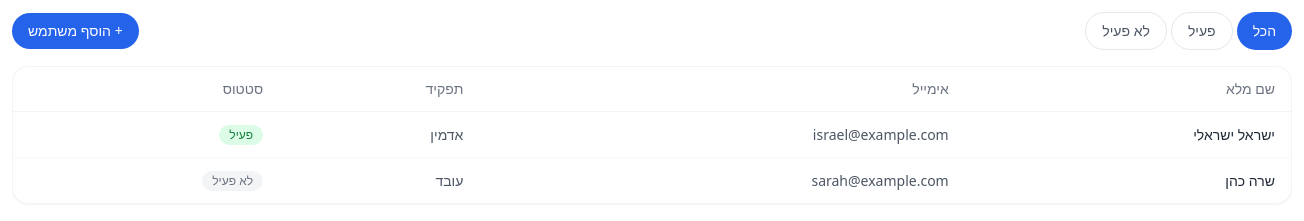
Test: status filter › "הכל" filter restores all rows after a narrower filter was active
The width and height of the screenshot is (1304, 221).
Expected: the text "ישראל ישראלי" is shown, 965,112 -> 1291,158
Click the button "פעיל" at {"x": 1202, "y": 31}, box 1171,12 -> 1233,50
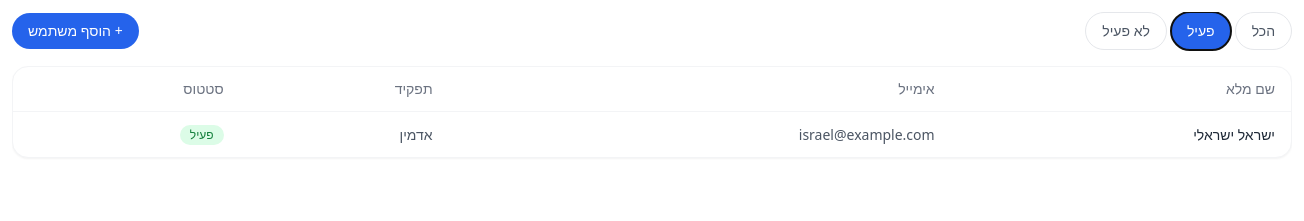
Click the button "הכל" at {"x": 1263, "y": 31}, box 1235,12 -> 1292,50
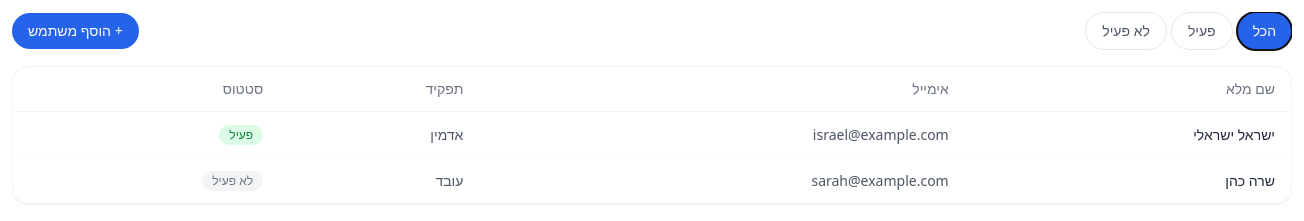
Expected: the text "ישראל ישראלי" is shown, 965,112 -> 1291,158
Now the text "שרה כהן" is shown, box 965,158 -> 1291,203
